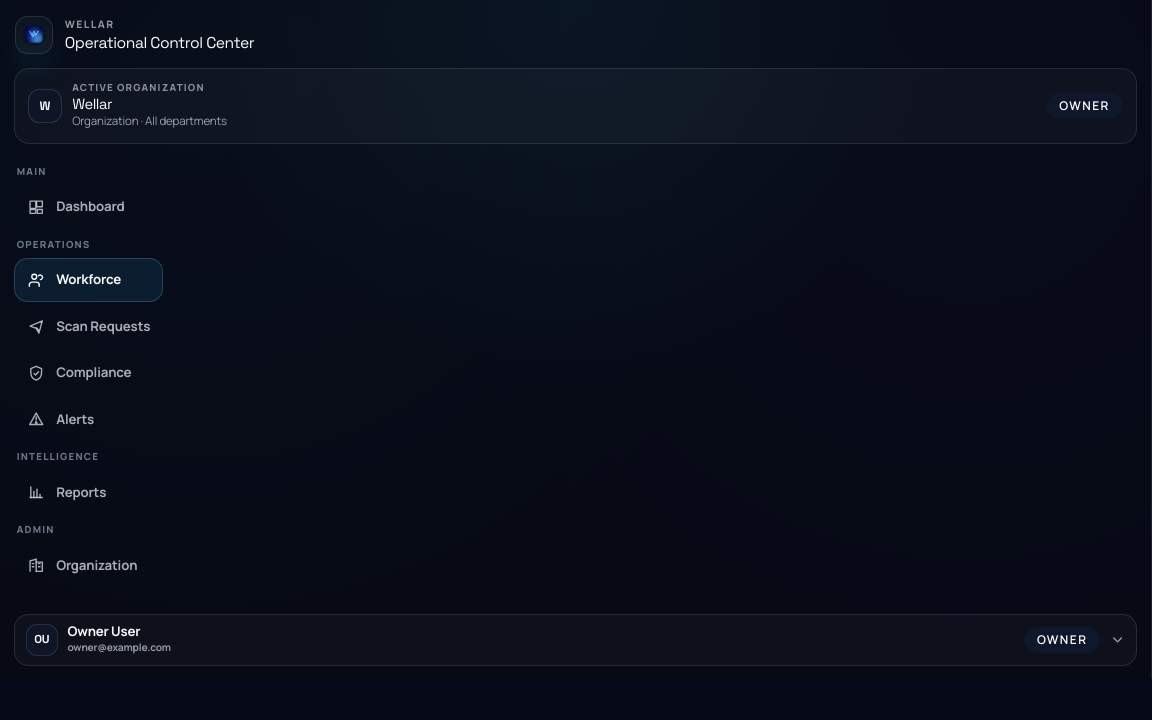
SidebarComponent › opens a body-level account menu that routes to personal settings and closes on Escape
Click the button with class "app-sidebar__account-control": coordinates (42, 640) [14, 614, 1137, 666]
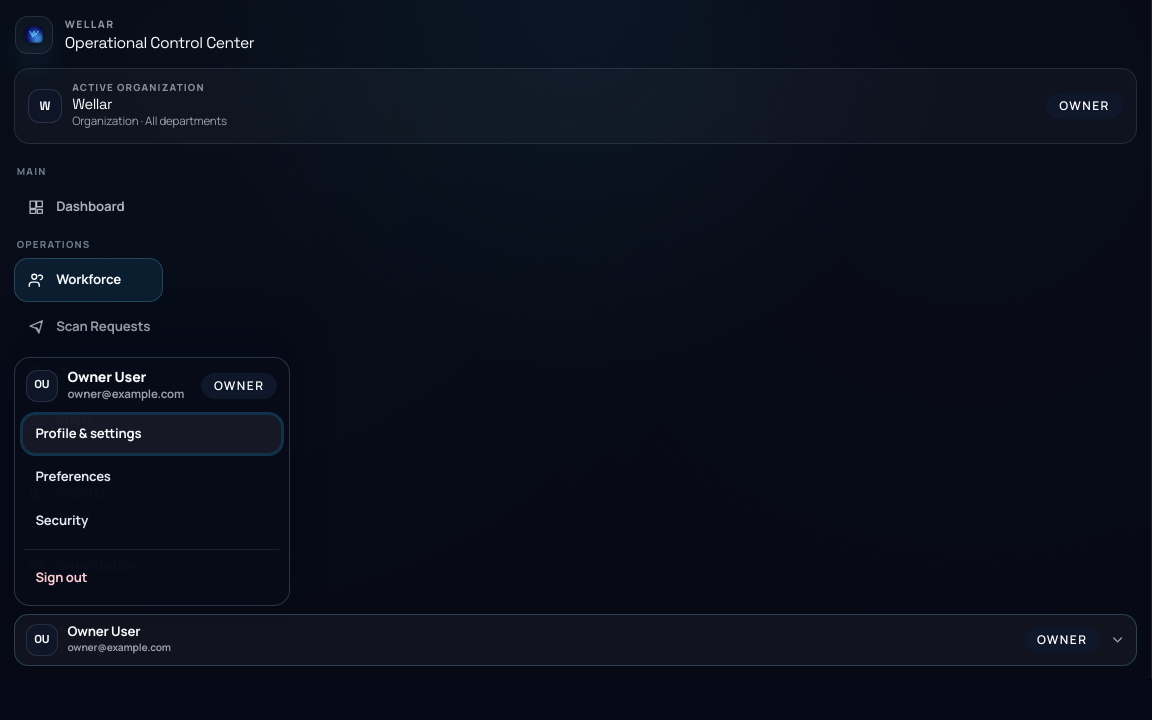
expect the element with class "app-sidebar__account-menu" is shown: met, box [14, 357, 290, 606]
expect the element with class "app-sidebar__account-menu" shows "Profile & settings": met
expect the element with class "app-sidebar__account-menu" shows "Preferences": met, box [23, 458, 281, 496]
Click the menu item with class "app-sidebar__account-menu-item" showing "Profile & settings": coordinates (152, 434) [23, 414, 281, 453]
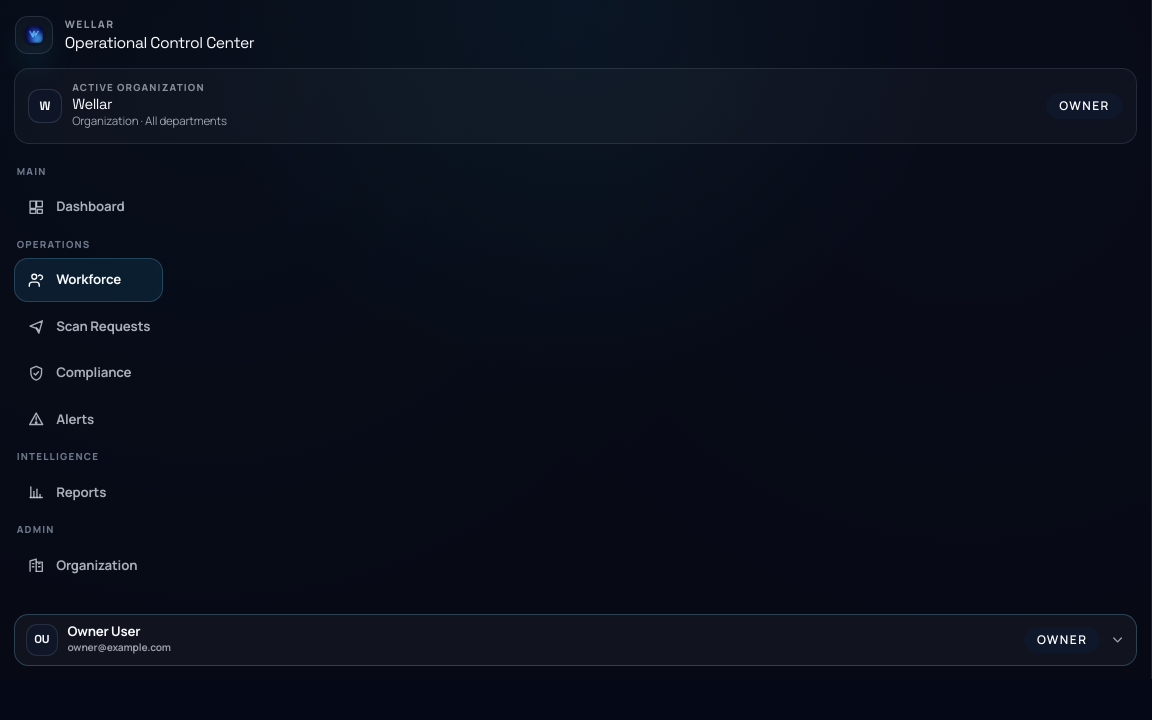
Click the button with class "app-sidebar__account-control": coordinates (42, 640) [14, 614, 1137, 666]
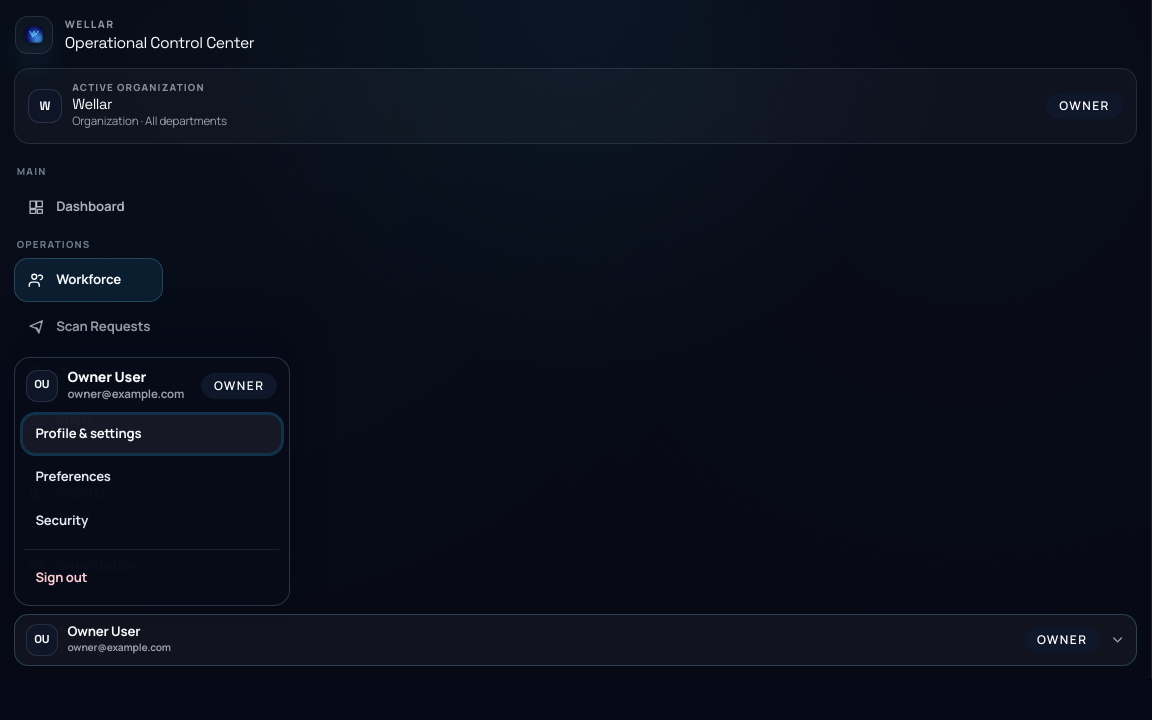
Press Escape in the menu item with class "app-sidebar__account-menu-item" showing "Profile & settings", box [23, 414, 281, 453]
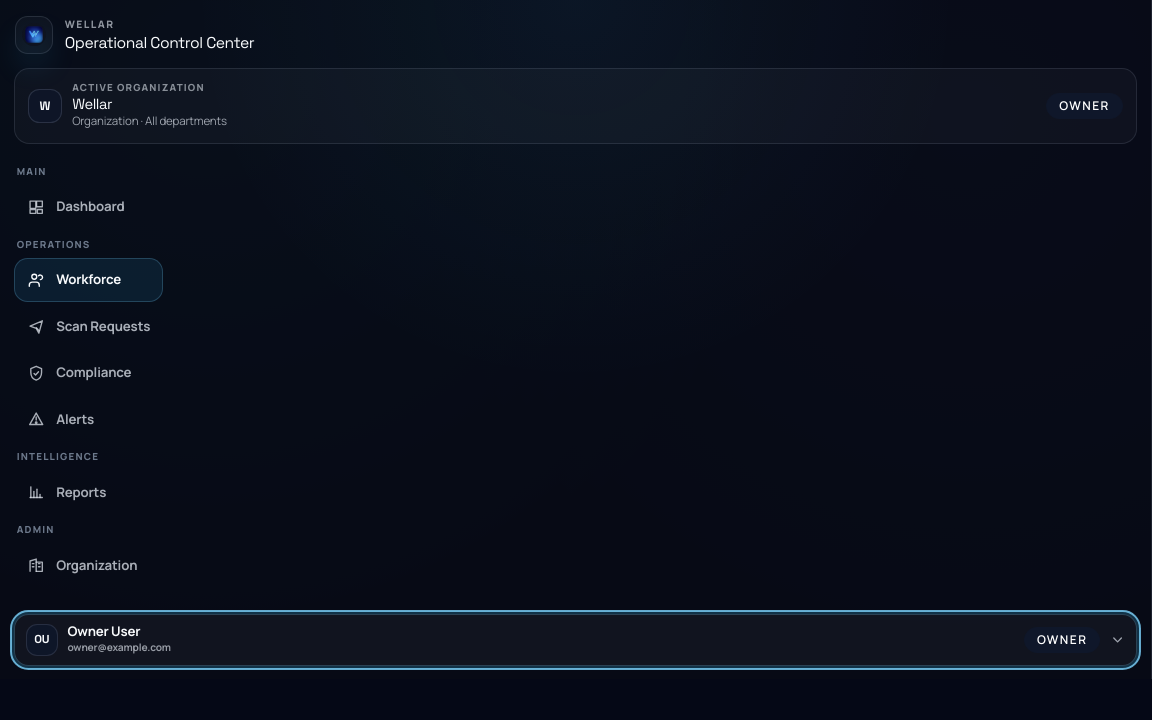
expect the element with class "app-sidebar__account-menu" is gone: met
